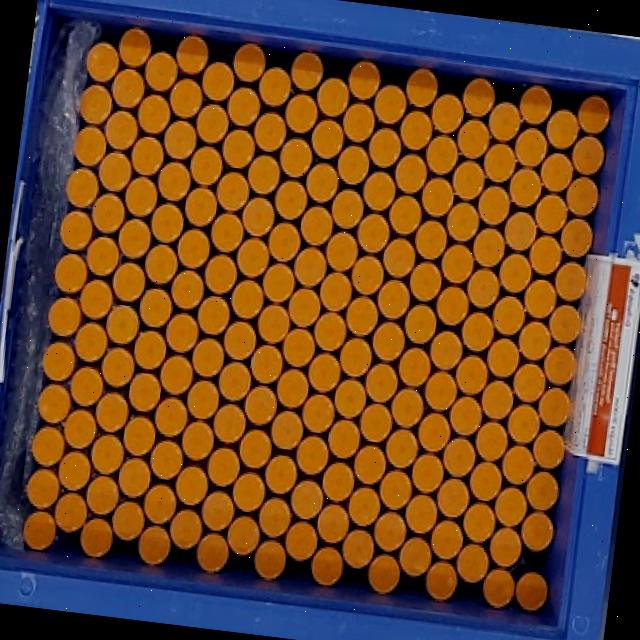vials: (142, 483, 177, 525), (226, 86, 261, 127), (53, 492, 88, 533), (435, 285, 469, 327), (195, 103, 229, 145), (144, 50, 178, 92), (137, 93, 171, 135), (85, 41, 119, 83), (124, 176, 158, 218), (65, 167, 99, 209), (91, 192, 125, 234), (57, 450, 91, 492), (117, 457, 151, 499), (31, 425, 65, 467), (200, 490, 234, 532), (169, 508, 203, 550), (565, 176, 599, 217), (508, 167, 542, 208), (487, 101, 521, 142), (503, 211, 537, 252), (456, 119, 490, 160), (399, 110, 433, 151), (388, 195, 422, 236), (506, 403, 540, 444), (403, 304, 437, 345), (362, 171, 396, 212), (356, 213, 390, 254), (525, 470, 559, 511), (493, 486, 527, 527), (514, 571, 548, 612), (455, 543, 489, 584), (373, 511, 407, 552), (307, 352, 341, 393), (301, 393, 335, 434), (295, 435, 329, 476), (284, 93, 318, 134), (279, 137, 313, 178), (305, 162, 339, 203), (274, 179, 308, 220), (175, 34, 209, 75), (169, 78, 203, 119), (189, 145, 223, 186), (293, 247, 327, 288), (163, 119, 197, 160), (111, 68, 145, 109), (104, 110, 138, 151), (157, 161, 191, 202), (210, 212, 244, 253), (98, 151, 132, 192), (150, 203, 184, 244), (261, 262, 295, 303), (106, 304, 140, 345), (79, 279, 113, 320), (47, 296, 81, 337), (159, 355, 193, 396), (101, 347, 135, 388), (94, 392, 128, 433), (69, 366, 103, 407), (149, 439, 183, 480), (206, 446, 240, 487), (26, 468, 60, 509), (226, 516, 260, 557), (195, 532, 229, 573), (111, 500, 145, 541), (519, 84, 552, 126), (560, 217, 593, 259), (543, 344, 576, 386), (492, 295, 525, 337), (345, 295, 378, 337), (424, 370, 457, 412), (520, 511, 553, 553), (398, 536, 431, 578), (342, 101, 375, 143), (59, 209, 92, 251), (165, 312, 198, 354), (74, 321, 107, 363), (232, 471, 265, 513), (514, 127, 548, 167), (537, 387, 571, 427), (424, 561, 458, 601), (347, 487, 381, 527), (290, 480, 324, 520), (221, 128, 255, 168), (176, 229, 210, 269), (238, 429, 272, 469), (41, 342, 75, 382), (63, 409, 97, 449), (90, 434, 124, 474), (137, 525, 171, 565), (79, 518, 113, 558), (22, 511, 56, 551), (571, 135, 604, 176), (554, 261, 587, 302), (477, 185, 510, 226), (452, 160, 485, 201), (430, 93, 463, 134), (498, 252, 531, 293), (446, 201, 479, 242), (394, 153, 427, 194), (373, 84, 406, 125), (414, 219, 447, 260), (461, 311, 494, 352), (486, 337, 519, 378), (513, 362, 546, 403), (532, 429, 565, 470), (455, 354, 488, 395), (429, 330, 462, 371), (376, 279, 409, 320), (368, 127, 401, 168), (372, 321, 405, 362), (488, 527, 521, 568), (462, 502, 495, 543), (436, 477, 469, 518), (417, 412, 450, 453), (391, 387, 424, 428), (379, 470, 412, 511), (353, 444, 386, 485), (341, 528, 374, 569), (321, 461, 354, 502), (316, 503, 349, 544), (325, 231, 358, 272), (313, 311, 346, 352), (284, 521, 317, 562), (316, 77, 349, 118), (253, 111, 286, 152), (201, 61, 234, 102), (247, 154, 280, 195), (216, 171, 249, 212), (300, 205, 333, 246), (268, 221, 301, 262), (131, 135, 164, 176), (184, 186, 217, 227), (236, 237, 269, 278), (204, 253, 237, 294), (118, 218, 151, 259), (145, 244, 178, 285), (171, 269, 204, 310), (197, 295, 230, 336), (264, 454, 297, 495), (54, 253, 87, 294), (112, 262, 145, 303), (139, 287, 172, 328), (133, 329, 166, 370), (186, 379, 219, 420), (181, 421, 214, 462), (37, 383, 70, 424), (175, 465, 208, 506), (258, 497, 291, 538), (467, 267, 499, 309), (383, 237, 415, 279), (287, 288, 321, 327), (546, 109, 579, 149), (540, 152, 573, 192), (534, 194, 567, 234), (483, 143, 516, 183), (529, 235, 562, 275), (462, 77, 495, 117), (548, 304, 581, 344), (523, 279, 556, 319), (405, 68, 438, 108), (472, 228, 505, 268), (421, 177, 454, 217), (518, 320, 551, 360), (441, 244, 474, 284), (351, 255, 384, 295), (398, 347, 431, 387), (475, 421, 508, 461), (501, 445, 534, 485), (442, 437, 475, 477), (430, 520, 463, 560), (404, 494, 437, 534), (385, 429, 418, 469), (367, 554, 400, 594), (339, 338, 372, 378), (310, 546, 343, 586), (319, 271, 352, 311), (258, 67, 291, 107), (232, 43, 265, 83), (257, 304, 290, 344), (282, 328, 315, 368), (244, 386, 277, 426), (270, 410, 303, 450), (191, 337, 224, 377), (212, 404, 245, 444), (253, 540, 286, 580), (577, 94, 609, 135), (425, 135, 457, 176), (409, 261, 441, 302), (469, 461, 501, 502), (334, 378, 366, 419), (291, 51, 323, 92), (242, 196, 274, 237), (118, 27, 150, 68), (80, 84, 112, 125), (74, 126, 106, 167), (300, 205, 332, 246), (223, 320, 255, 361), (218, 361, 250, 402), (86, 475, 118, 516), (482, 569, 515, 608), (411, 454, 444, 493), (365, 364, 398, 403), (311, 120, 344, 159), (86, 237, 119, 276), (128, 373, 161, 412), (481, 380, 513, 420), (449, 396, 481, 436), (359, 403, 391, 443), (328, 419, 360, 459), (348, 60, 380, 100), (337, 145, 369, 185), (331, 189, 363, 229), (231, 279, 263, 319), (251, 344, 283, 384), (155, 397, 187, 437), (123, 416, 155, 456), (277, 368, 308, 409)
